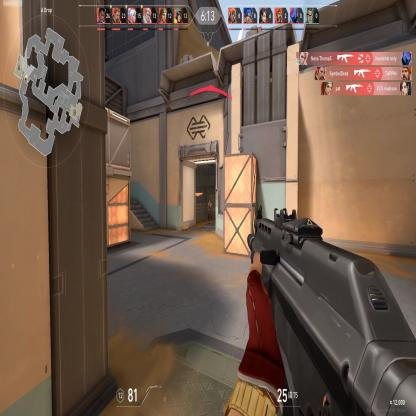enemy: (207, 199, 212, 222)
